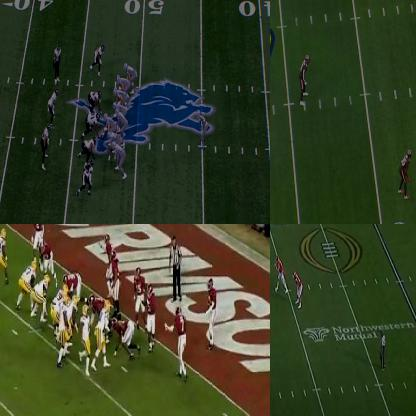CENTER: (50, 286, 68, 316), (102, 116, 113, 141)
DB: (168, 305, 192, 382), (203, 277, 217, 349), (301, 55, 311, 105), (52, 42, 62, 82), (101, 233, 114, 254), (31, 224, 45, 242)
LB: (143, 287, 158, 350), (107, 252, 124, 304), (134, 261, 144, 321), (81, 158, 95, 192), (40, 124, 50, 168), (90, 46, 102, 72), (47, 90, 57, 118)
QB: (116, 108, 128, 138), (276, 256, 284, 292)
SKILL: (399, 147, 414, 197), (82, 304, 91, 375), (0, 226, 10, 285), (197, 110, 209, 150), (124, 64, 138, 94), (100, 300, 106, 364), (292, 272, 302, 307)
